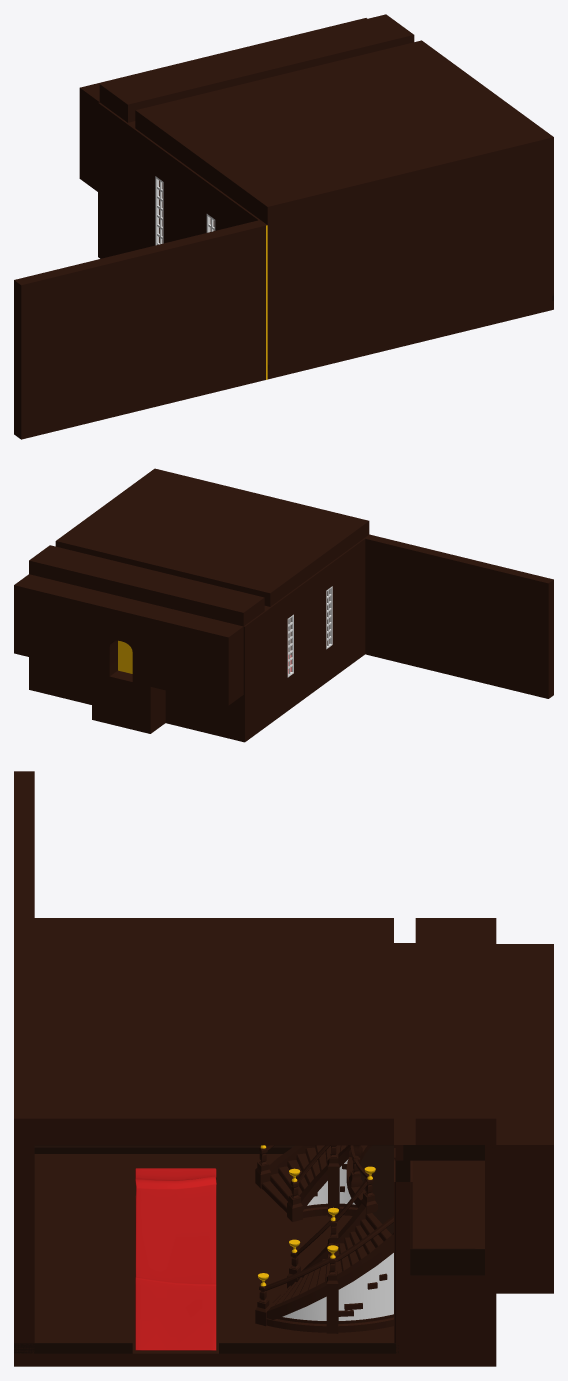
The model's file is FBX_Salon.FBX.
3 views of the same model, one above another, from view 1: azimuth 30°, elevation 25°; view 2: azimuth 150°, elevation 25°; view 3: azimuth 270°, elevation 25° (orthographic). The views are drawn at different scales.
Parts seen in each view (by area): view 1: SM_Salon_72, SM_Salon_93, SM_Salon_69, SM_Salon_75, SM_Salon_73, SM_Salon_67, SM_Salon_16; view 2: SM_Salon_72, SM_Salon_69, SM_Salon_67, SM_Salon_75, SM_Salon_74, SM_Salon_73, SM_Salon_37, SM_Salon_18, SM_Salon_16; view 3: SM_Salon_72, SM_Salon_35, SM_Salon_67, SM_Salon_73, SM_Salon_74, SM_Salon_19, SM_Salon_93, SM_Salon_69, SM_Salon_76, SM_Salon_08, SM_Salon_64, SM_Salon_11 (+17 smaller).
Boxes of the visible parts, x1=… form: SM_Salon_72: x1=135, y1=40, x2=553, y2=224; SM_Salon_93: x1=267, y1=155, x2=553, y2=379; SM_Salon_69: x1=14, y1=220, x2=265, y2=439; SM_Salon_75: x1=98, y1=102, x2=267, y2=379; SM_Salon_73: x1=99, y1=14, x2=414, y2=122; SM_Salon_67: x1=79, y1=18, x2=367, y2=191; SM_Salon_16: x1=155, y1=176, x2=163, y2=245; SM_Salon_72: x1=55, y1=468, x2=369, y2=606; SM_Salon_69: x1=365, y1=535, x2=553, y2=698; SM_Salon_67: x1=14, y1=574, x2=243, y2=705; SM_Salon_75: x1=243, y1=534, x2=370, y2=742; SM_Salon_74: x1=29, y1=657, x2=243, y2=741; SM_Salon_73: x1=29, y1=545, x2=264, y2=626; SM_Salon_37: x1=118, y1=640, x2=132, y2=673; SM_Salon_18: x1=326, y1=586, x2=332, y2=649; SM_Salon_16: x1=287, y1=614, x2=293, y2=677; SM_Salon_72: x1=14, y1=918, x2=393, y2=1144; SM_Salon_35: x1=14, y1=1154, x2=398, y2=1366; SM_Salon_67: x1=496, y1=944, x2=553, y2=1275; SM_Salon_73: x1=415, y1=918, x2=496, y2=1144; SM_Salon_74: x1=399, y1=1160, x2=553, y2=1366; SM_Salon_19: x1=135, y1=1168, x2=216, y2=1350; SM_Salon_93: x1=14, y1=1145, x2=34, y2=1366; SM_Salon_69: x1=14, y1=771, x2=34, y2=917; SM_Salon_76: x1=282, y1=1253, x2=393, y2=1320; SM_Salon_08: x1=267, y1=1203, x2=393, y2=1319; SM_Salon_64: x1=394, y1=1044, x2=415, y2=1160; SM_Salon_11: x1=270, y1=1213, x2=391, y2=1306.
Bounding box in the file's own units: 3070 × 1875 × 950.
